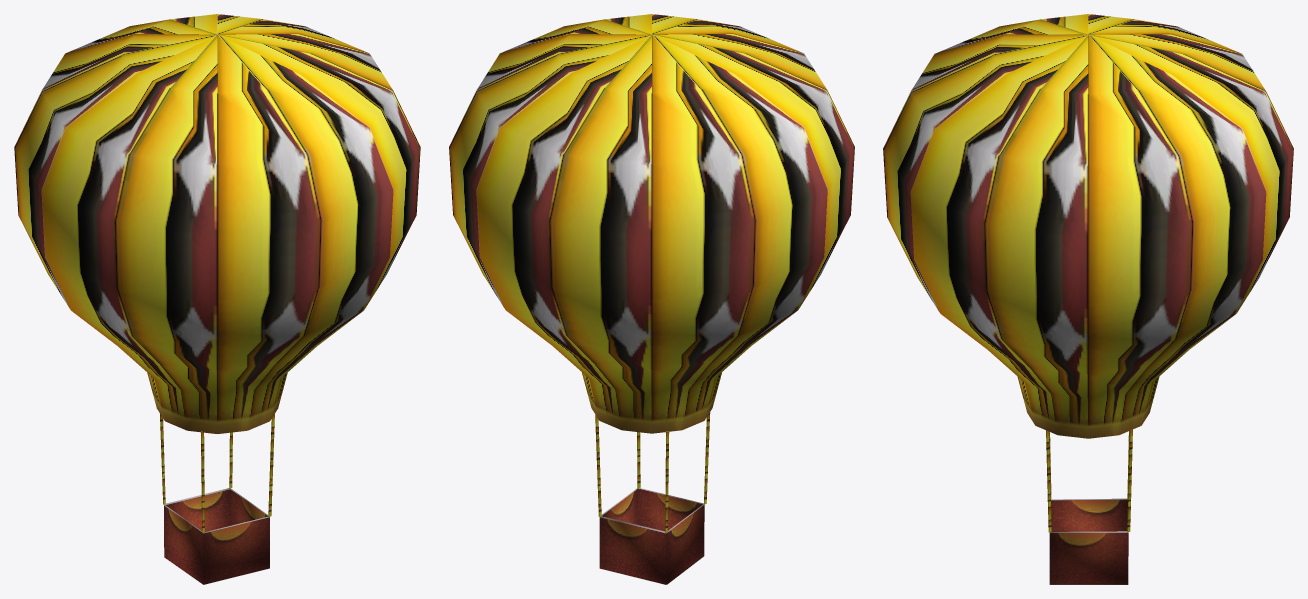
Rendered from furni_0201003.FBX.
The picture shows the model from 3 angles, left to right: view 1: azimuth 30°, elevation 25°; view 2: azimuth 150°, elevation 25°; view 3: azimuth 270°, elevation 25°; orthographic projection.
Visible parts, largest first — view 1: furni_0201003; view 2: furni_0201003; view 3: furni_0201003.
Boxes of the visible parts, box(x1,y1,x2,y2) form: furni_0201003: box(14, 14, 420, 584); furni_0201003: box(449, 14, 854, 584); furni_0201003: box(883, 14, 1293, 584).
Bounding box in the file's own units: 680 × 975 × 680.
1 material, 1 textured.
